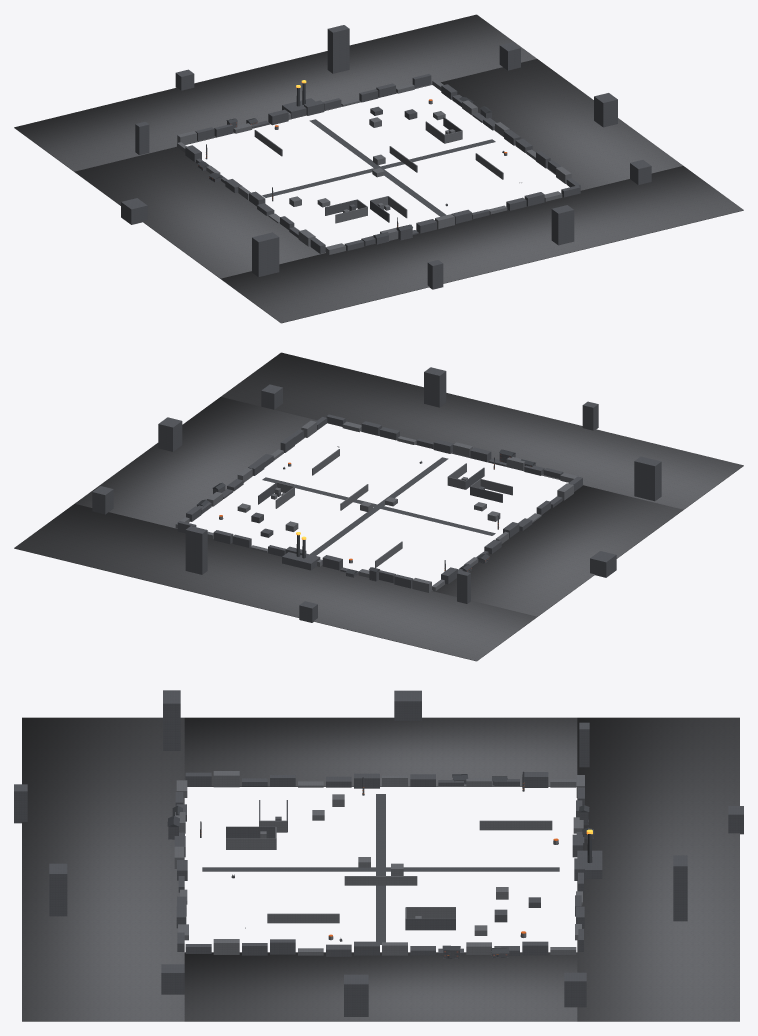
Rendered from koushou-lod2.glb.
The picture shows the model from 3 angles, top to bottom: view 1: azimuth 30°, elevation 25°; view 2: azimuth 150°, elevation 25°; view 3: azimuth 270°, elevation 25°; orthographic projection. The views are drawn at different scales.
Parts seen in each view (by area): view 1: HB_koushou_LOD2_terrain, HB_koushou_LOD2_wall_alt, HB_koushou_LOD2_wall, HB_koushou_LOD2_road, HB_koushou_LOD2_trim; view 2: HB_koushou_LOD2_terrain, HB_koushou_LOD2_wall_alt, HB_koushou_LOD2_wall, HB_koushou_LOD2_road, HB_koushou_LOD2_trim; view 3: HB_koushou_LOD2_terrain, HB_koushou_LOD2_wall_alt, HB_koushou_LOD2_wall, HB_koushou_LOD2_road, HB_koushou_LOD2_trim.
Boxes of the visible parts, x1,y1,x2,y2 form: HB_koushou_LOD2_terrain: (14, 14, 743, 323); HB_koushou_LOD2_wall_alt: (121, 25, 651, 289); HB_koushou_LOD2_wall: (177, 80, 571, 254); HB_koushou_LOD2_road: (262, 119, 495, 216); HB_koushou_LOD2_trim: (197, 83, 521, 237); HB_koushou_LOD2_terrain: (14, 352, 743, 661); HB_koushou_LOD2_wall_alt: (92, 367, 661, 622); HB_koushou_LOD2_wall: (175, 420, 580, 592); HB_koushou_LOD2_road: (262, 457, 495, 555); HB_koushou_LOD2_trim: (196, 446, 535, 574); HB_koushou_LOD2_terrain: (22, 717, 739, 1021); HB_koushou_LOD2_wall_alt: (14, 690, 743, 1016); HB_koushou_LOD2_wall: (174, 771, 584, 955); HB_koushou_LOD2_road: (202, 794, 559, 944); HB_koushou_LOD2_trim: (167, 774, 594, 958).
Size of the model in its own units: 588 by 49.61 by 584.
Materials: 8 (6 with a texture image).
